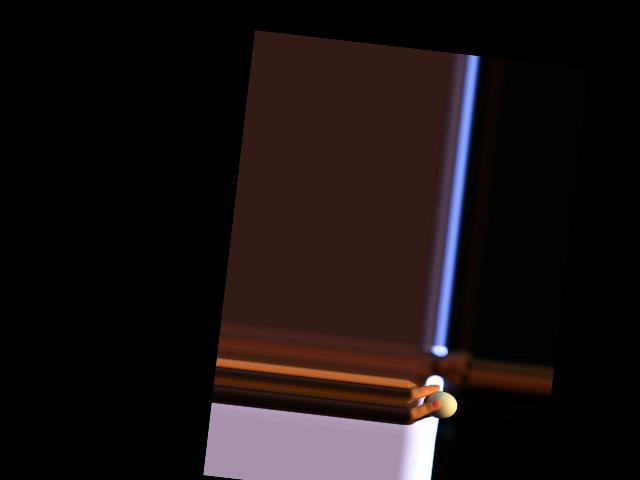egg: (421, 388, 458, 419)
